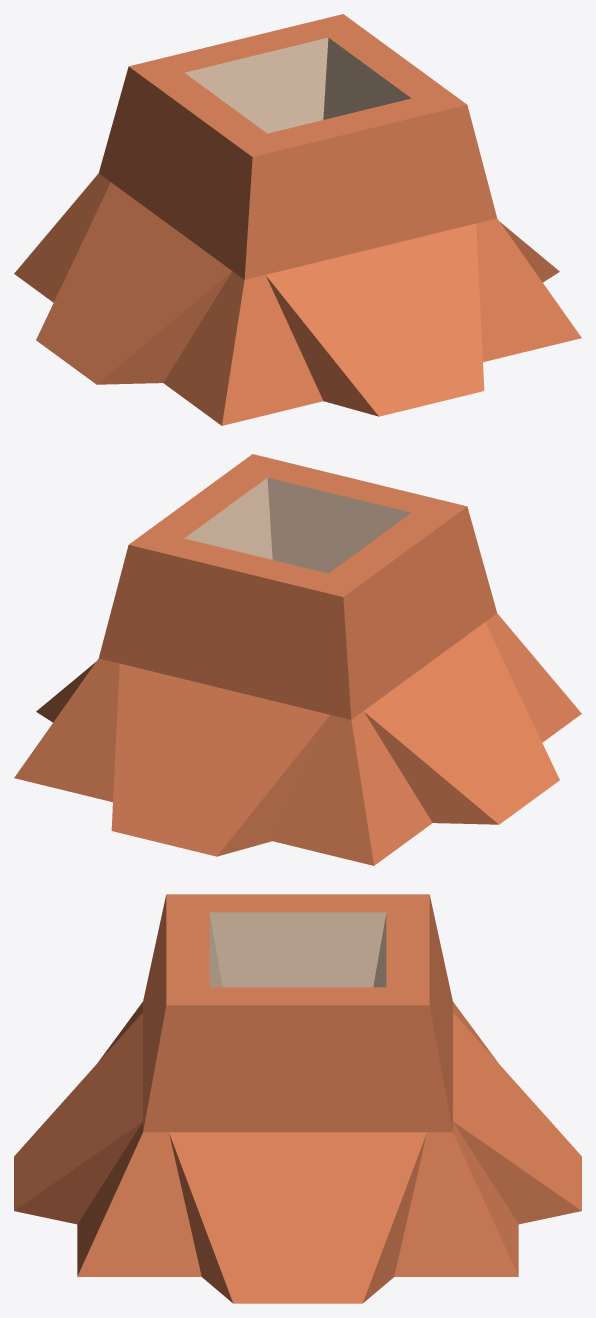
The model's file is stump-square-detailed.glb.
3 renders of one model, top to bottom at view 1: azimuth 30°, elevation 25°; view 2: azimuth 150°, elevation 25°; view 3: azimuth 270°, elevation 25°, orthographic. The views are drawn at different scales.
Parts seen in each view (by area): view 1: stump_squareDetailed; view 2: stump_squareDetailed; view 3: stump_squareDetailed.
Boxes of the visible parts, box(x1,y1,x2,y2) form: stump_squareDetailed: box(14, 14, 581, 425); stump_squareDetailed: box(14, 454, 581, 865); stump_squareDetailed: box(14, 894, 581, 1303).
Size of the model in its own units: 0.44 by 0.2 by 0.44.
